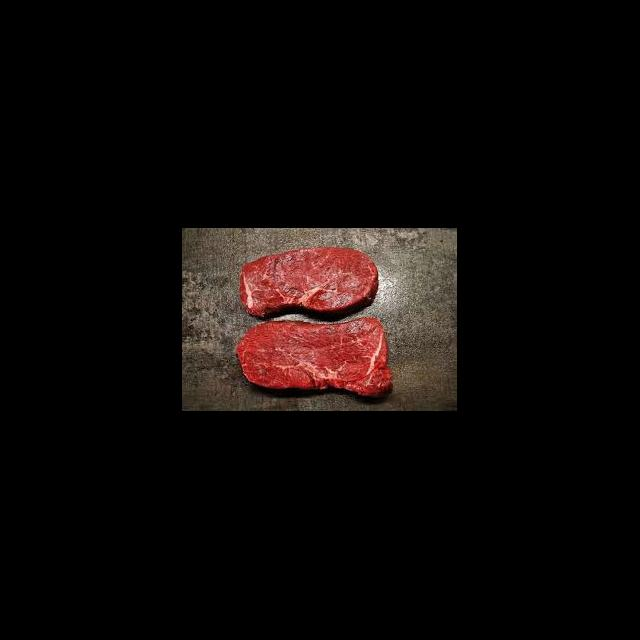beef: (238, 322, 394, 398), (239, 247, 379, 319)
